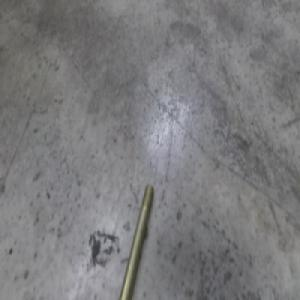Bolt: (122, 184, 154, 289)
